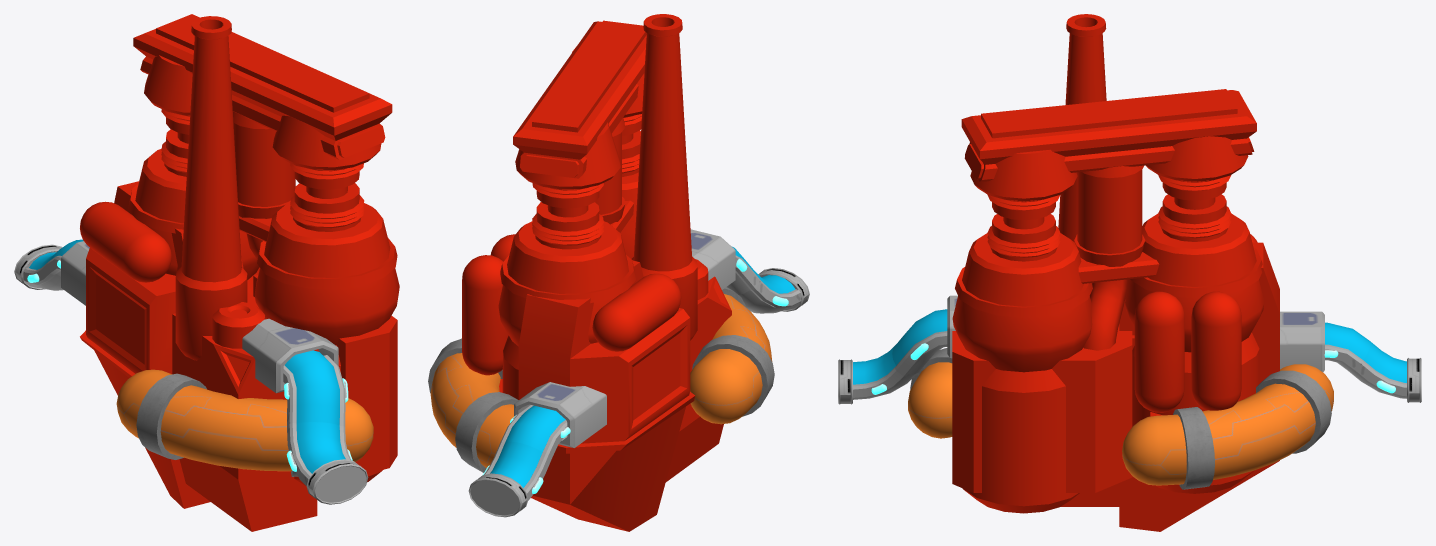
Rendered from Smelter.fbx.
The picture shows the model from 3 angles, left to right: view 1: azimuth 30°, elevation 25°; view 2: azimuth 150°, elevation 25°; view 3: azimuth 270°, elevation 25°; orthographic projection. The views are drawn at different scales.
Visible parts, largest first — view 1: Cylinder.234, Cylinder.231, Icosphere.043, Cube.286, Cube.293, Cube.291, Cylinder.232, Cube.296, Cube.292, Cylinder.233, Icosphere.050, Cube.295 (+6 smaller); view 2: Cube.293, Cylinder.232, Cylinder.231, Cube.286, Icosphere.043, Icosphere.052, Icosphere.053, Icosphere.050, Cube.309, Cube.291, Cube.260, Cube.296 (+5 smaller); view 3: Cylinder.234, Cylinder.232, Cube.286, Icosphere.052, Cube.292, Cylinder.233, Icosphere.051, Cube.293, Icosphere.053, Cylinder.231, Cube.296, Cube.309 (+6 smaller).
Part boxes in pixels (x1=…): Cylinder.234: x1=254, y1=115, x2=399, y2=485; Cylinder.231: x1=175, y1=16, x2=247, y2=360; Icosphere.043: x1=116, y1=369, x2=373, y2=476; Cube.286: x1=133, y1=14, x2=392, y2=159; Cube.293: x1=80, y1=181, x2=243, y2=508; Cube.291: x1=172, y1=292, x2=317, y2=531; Cylinder.232: x1=128, y1=55, x2=259, y2=295; Cube.296: x1=283, y1=350, x2=352, y2=485; Cube.292: x1=253, y1=275, x2=397, y2=473; Cylinder.233: x1=233, y1=111, x2=295, y2=218; Icosphere.050: x1=80, y1=201, x2=171, y2=282; Cube.295: x1=242, y1=318, x2=338, y2=393; Cube.293: x1=518, y1=260, x2=695, y2=531; Cylinder.232: x1=498, y1=122, x2=635, y2=399; Cylinder.231: x1=631, y1=14, x2=697, y2=340; Cube.286: x1=513, y1=20, x2=646, y2=178; Icosphere.043: x1=690, y1=287, x2=774, y2=424; Icosphere.052: x1=428, y1=338, x2=518, y2=472; Icosphere.053: x1=462, y1=255, x2=508, y2=375; Icosphere.050: x1=592, y1=273, x2=681, y2=351; Cube.309: x1=482, y1=405, x2=570, y2=500; Cube.291: x1=665, y1=276, x2=731, y2=482; Cube.260: x1=514, y1=382, x2=606, y2=447; Cube.296: x1=727, y1=246, x2=801, y2=313; Cylinder.234: x1=952, y1=149, x2=1092, y2=513; Cylinder.232: x1=1125, y1=136, x2=1264, y2=493; Cube.286: x1=961, y1=89, x2=1256, y2=181; Icosphere.052: x1=1122, y1=364, x2=1333, y2=489; Cube.292: x1=952, y1=331, x2=1132, y2=492; Cylinder.233: x1=1074, y1=165, x2=1145, y2=266; Icosphere.051: x1=1134, y1=291, x2=1184, y2=412; Cube.293: x1=1119, y1=242, x2=1279, y2=531; Icosphere.053: x1=1191, y1=291, x2=1241, y2=410; Cylinder.231: x1=1058, y1=14, x2=1106, y2=242; Cube.296: x1=853, y1=309, x2=947, y2=399; Cube.309: x1=1324, y1=322, x2=1406, y2=398.
Size of the model in its own units: 879 by 1521 by 1656.
